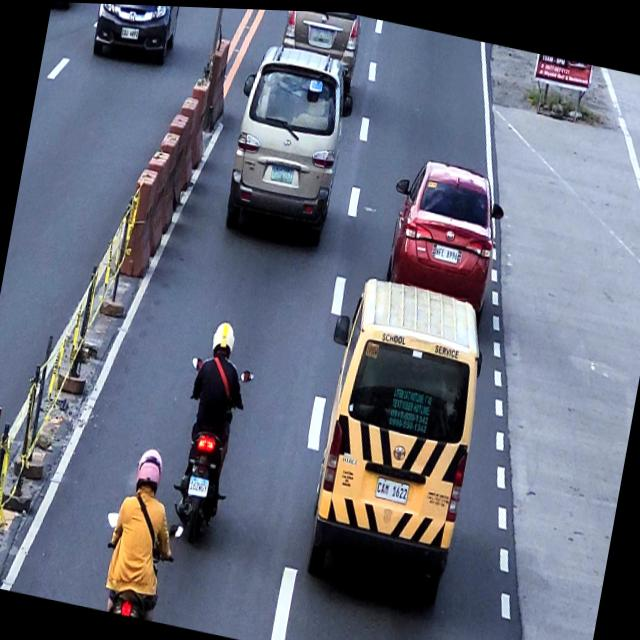Bus: (289, 264, 496, 603)
Car: (218, 36, 359, 246), (376, 148, 510, 313), (273, 8, 364, 91), (86, 3, 184, 69)
License-Plate: (373, 471, 410, 501), (186, 472, 210, 496), (268, 160, 294, 182), (434, 240, 459, 260), (310, 24, 332, 43), (120, 24, 140, 39)
Motorcycle: (160, 352, 255, 548), (90, 507, 182, 622)
